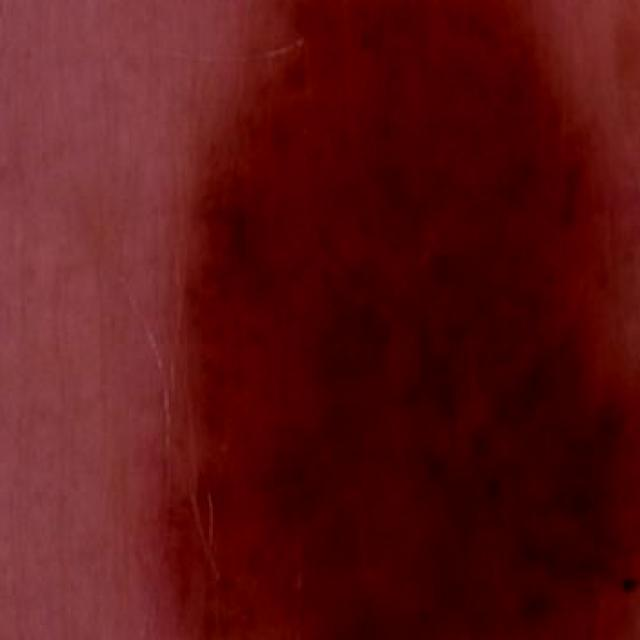NV: (140, 0, 640, 640)
